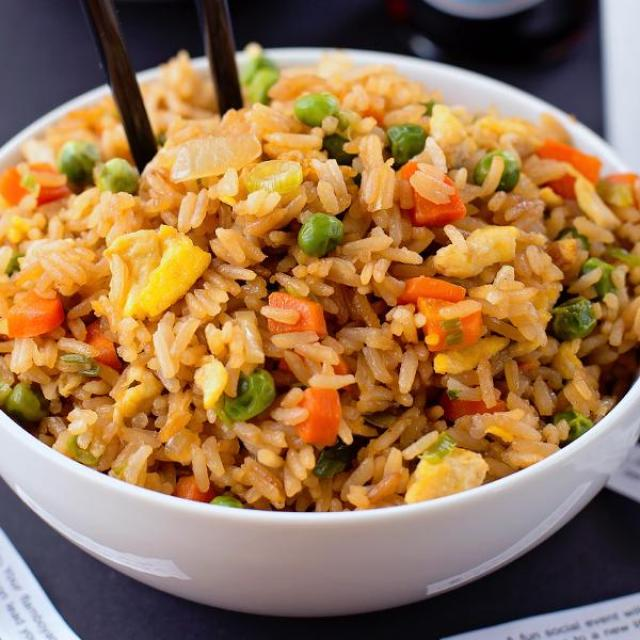Nasi Goreng: (0, 51, 639, 511)
